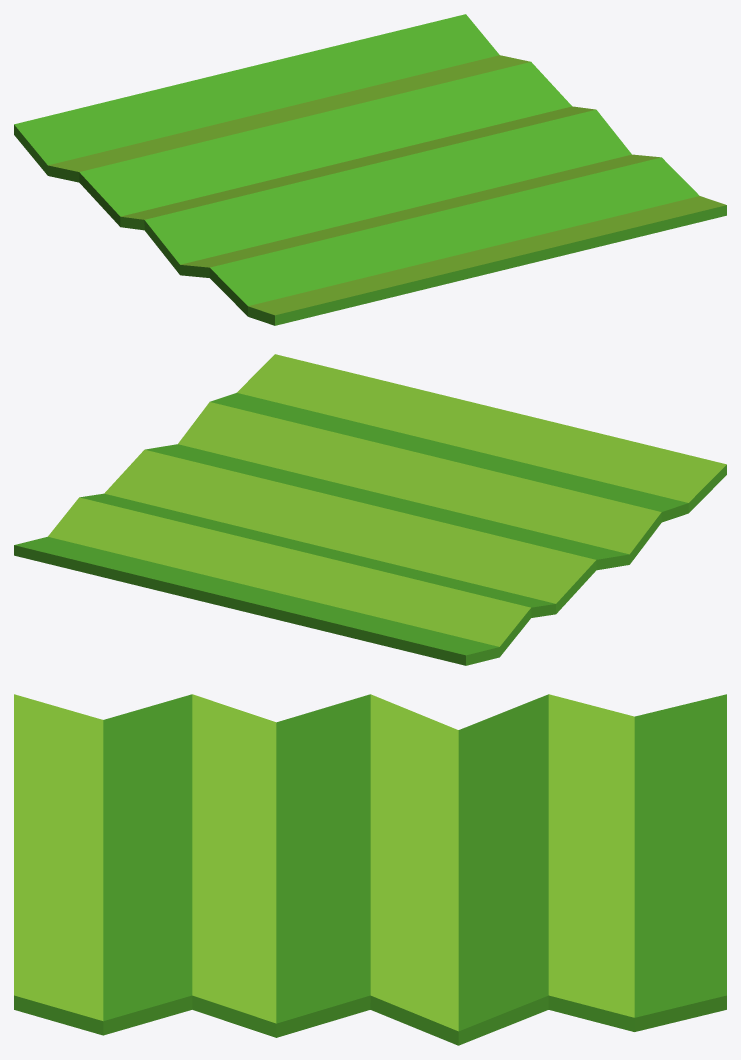
File: Lettuce.fbx
The picture shows the model from 3 angles, top to bottom: view 1: azimuth 30°, elevation 25°; view 2: azimuth 150°, elevation 25°; view 3: azimuth 270°, elevation 25°; orthographic projection. The views are drawn at different scales.
Visible parts, largest first — view 1: Plane; view 2: Plane; view 3: Plane.
Part boxes in pixels (bbox=[...]): Plane: bbox=[14, 14, 726, 325]; Plane: bbox=[14, 354, 726, 665]; Plane: bbox=[14, 694, 726, 1045].
Bounding box in the file's own units: 204 × 13.9 × 200.
